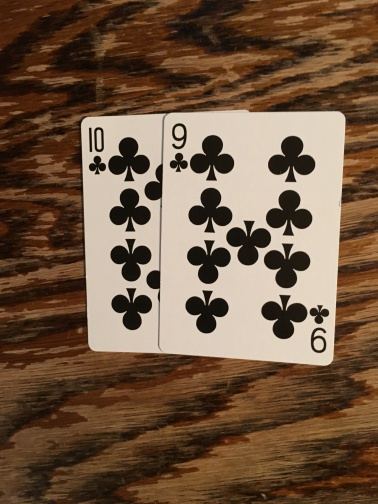nine: (159, 112, 345, 366)
ten: (80, 114, 163, 357)
